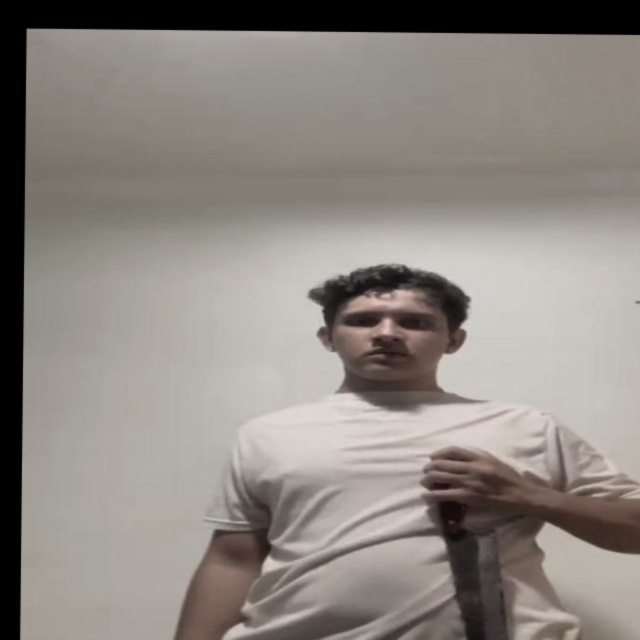Sharp-Object: (445, 534, 517, 640)
